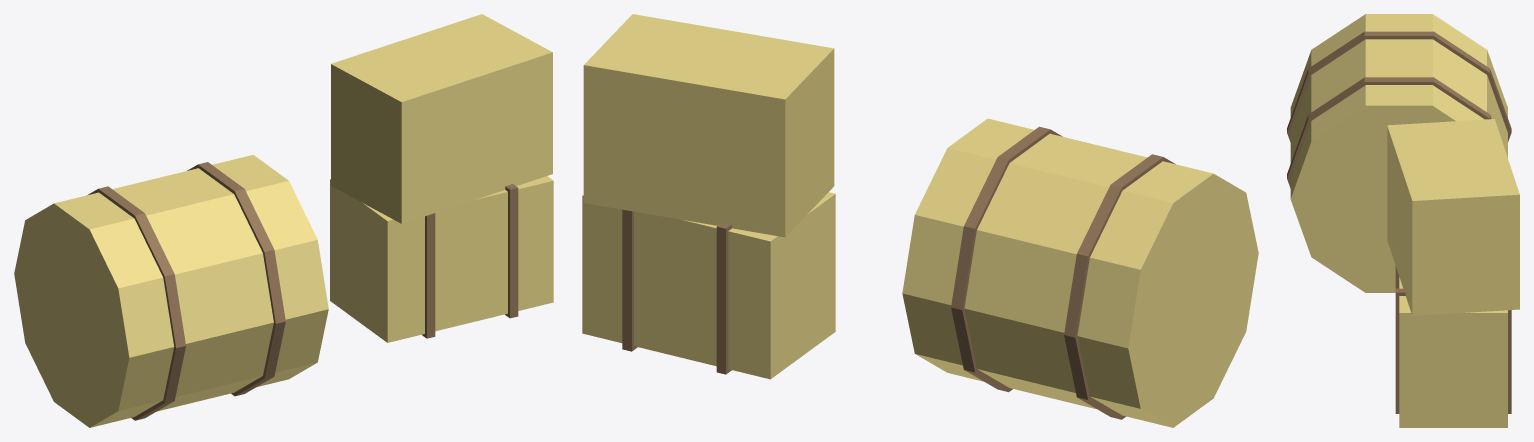
The model's file is HayBales.glb.
The picture shows the model from 3 angles, left to right: view 1: azimuth 30°, elevation 25°; view 2: azimuth 150°, elevation 25°; view 3: azimuth 270°, elevation 25°; orthographic projection. The views are drawn at different scales.
Parts seen in each view (by area): view 1: HayBales_Round, HayBales_Bale.001, HayBales_Bale, HayBales_Strap.001, HayBales_Strap, HayBales_Strap.003, HayBales_Strap.002; view 2: HayBales_Round, HayBales_Bale.001, HayBales_Bale, HayBales_Strap, HayBales_Strap.001, HayBales_Strap.002, HayBales_Strap.003; view 3: HayBales_Round, HayBales_Bale.001, HayBales_Bale, HayBales_Strap, HayBales_Strap.001, HayBales_Strap.003.
Boxes of the visible parts, x1,y1,x2,y2 form: HayBales_Round: (14,154,328,427); HayBales_Bale.001: (331,14,552,223); HayBales_Bale: (330,176,553,342); HayBales_Strap.001: (187,162,285,396); HayBales_Strap: (87,186,185,420); HayBales_Strap.003: (505,184,518,318); HayBales_Strap.002: (422,213,435,338); HayBales_Round: (902,118,1258,427); HayBales_Bale.001: (583,14,834,237); HayBales_Bale: (582,192,835,379); HayBales_Strap: (1064,154,1175,419); HayBales_Strap.001: (951,126,1062,392); HayBales_Strap.002: (716,222,731,374); HayBales_Strap.003: (622,209,637,351); HayBales_Round: (1290,14,1507,292); HayBales_Bale.001: (1387,119,1519,315); HayBales_Bale: (1399,277,1507,427); HayBales_Strap: (1287,31,1511,142); HayBales_Strap.001: (1287,77,1491,188); HayBales_Strap.003: (1395,288,1511,413).
Bounding box in the file's own units: 2.94 × 1.42 × 1.29.
